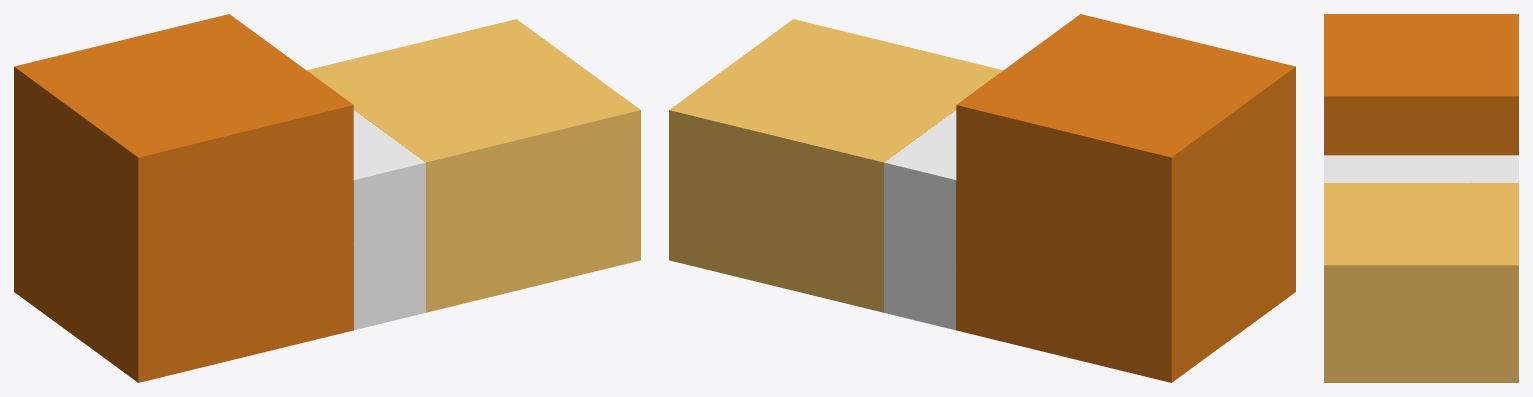
The model's file is Bronze_Bracer_L.fbx.
The picture shows the model from 3 angles, left to right: view 1: azimuth 30°, elevation 25°; view 2: azimuth 150°, elevation 25°; view 3: azimuth 270°, elevation 25°; orthographic projection. The views are drawn at different scales.
Size of the model in its own units: 7 by 3 by 3.
1 material, 1 textured.
